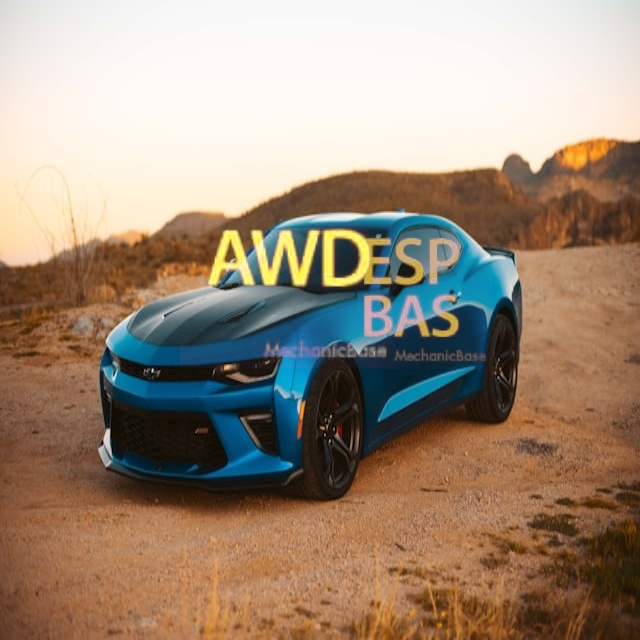symbol: (180, 153, 395, 368), (332, 209, 492, 369), (215, 37, 341, 163)
